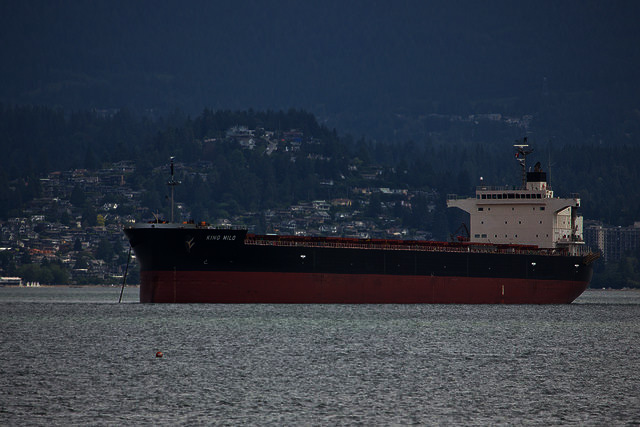bulk carrier: (122, 139, 594, 307)
